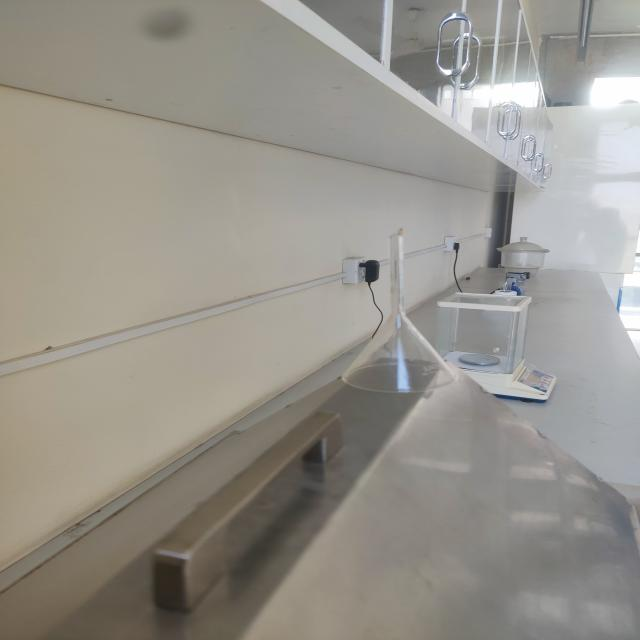Funnel: (323, 216, 471, 424)
